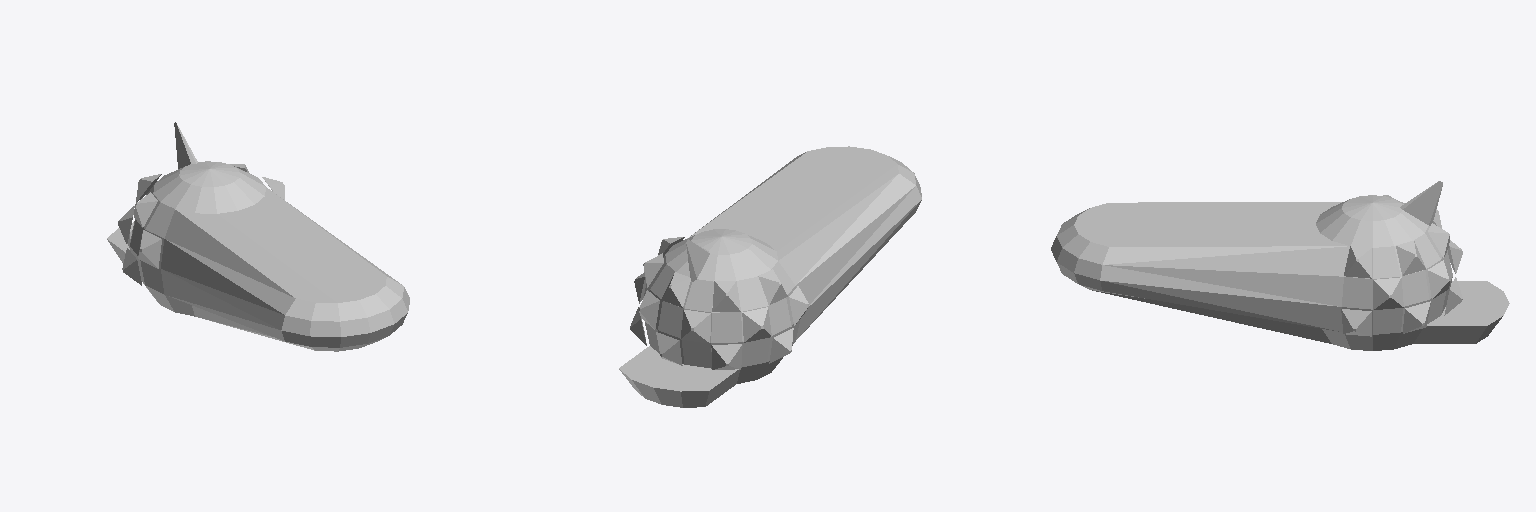
File: boat.obj
3 renders of one model, left to right at view 1: azimuth 30°, elevation 25°; view 2: azimuth 150°, elevation 25°; view 3: azimuth 270°, elevation 25°, orthographic.
Visible parts, largest first — view 1: sphere1; view 2: sphere1; view 3: sphere1.
Boxes of the visible parts, box(x1,y1,x2,y2) form: sphere1: box(107, 122, 409, 351); sphere1: box(619, 146, 921, 407); sphere1: box(1051, 181, 1509, 350).
Bounding box in the file's own units: 2.24 × 2.07 × 5.7.